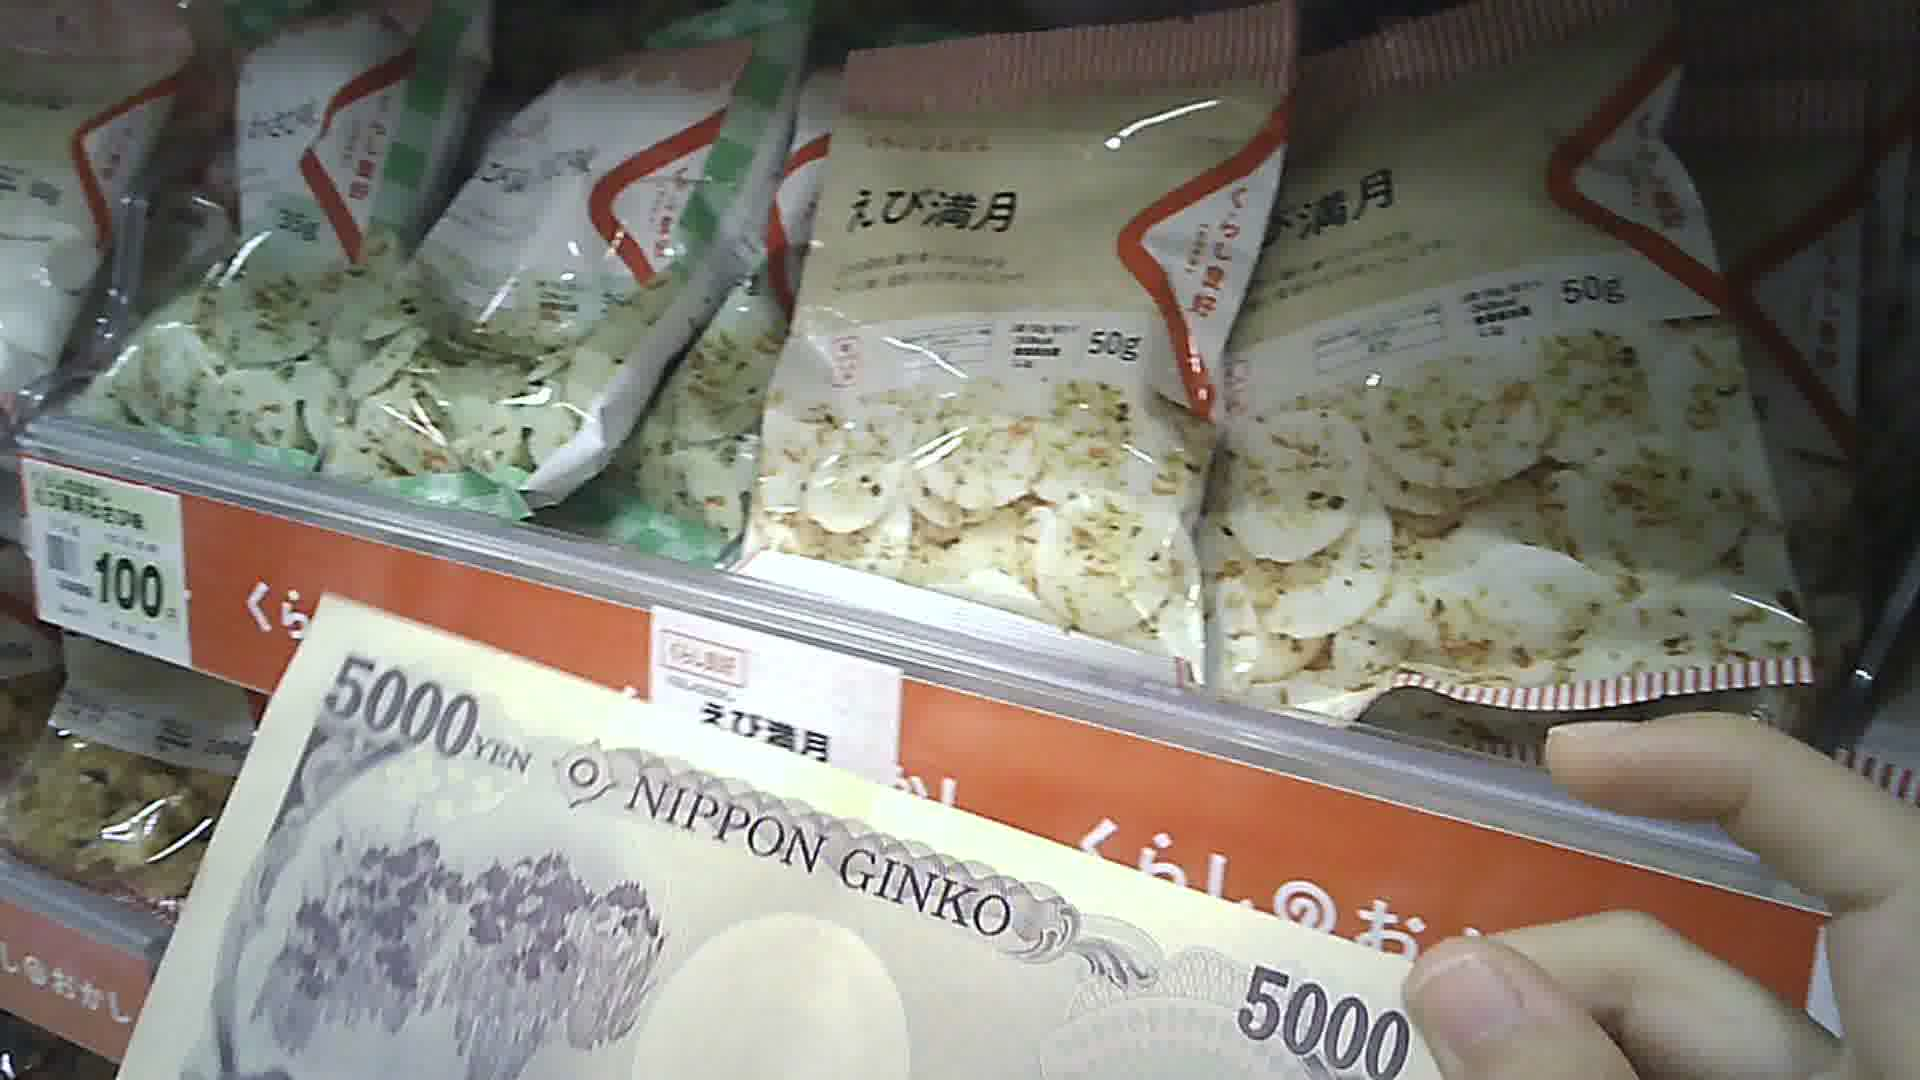5,000 Yen: (117, 599, 1449, 1072)
